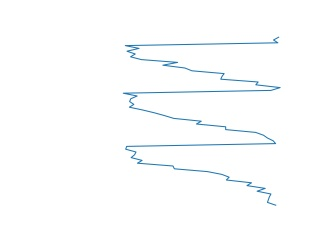distributaryMouthBar: (122, 37, 282, 208)
